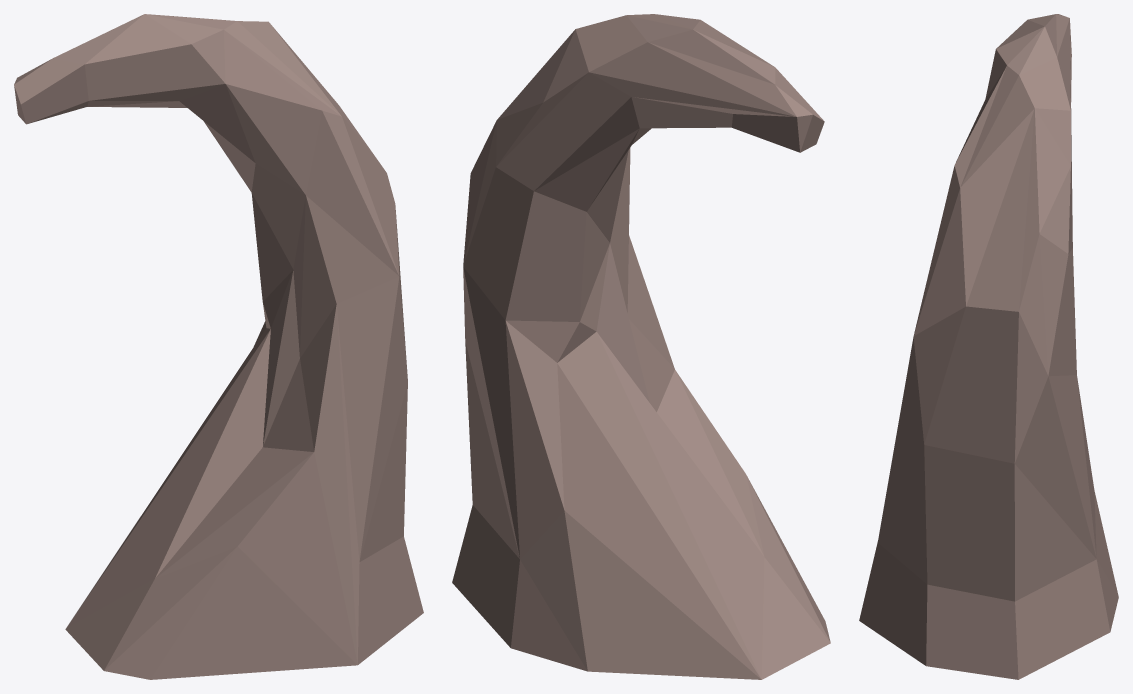
Rendered from Rock_16.fbx.
3 renders of one model, left to right at view 1: azimuth 30°, elevation 25°; view 2: azimuth 150°, elevation 25°; view 3: azimuth 270°, elevation 25°, orthographic. The views are drawn at different scales.
Parts seen in each view (by area): view 1: Rock_16; view 2: Rock_16; view 3: Rock_16.
Boxes of the visible parts, box(x1,y1,x2,y2) form: Rock_16: box(14, 14, 423, 679); Rock_16: box(452, 14, 830, 679); Rock_16: box(859, 14, 1118, 679).
Size of the model in its own units: 4 by 6.21 by 2.68.
